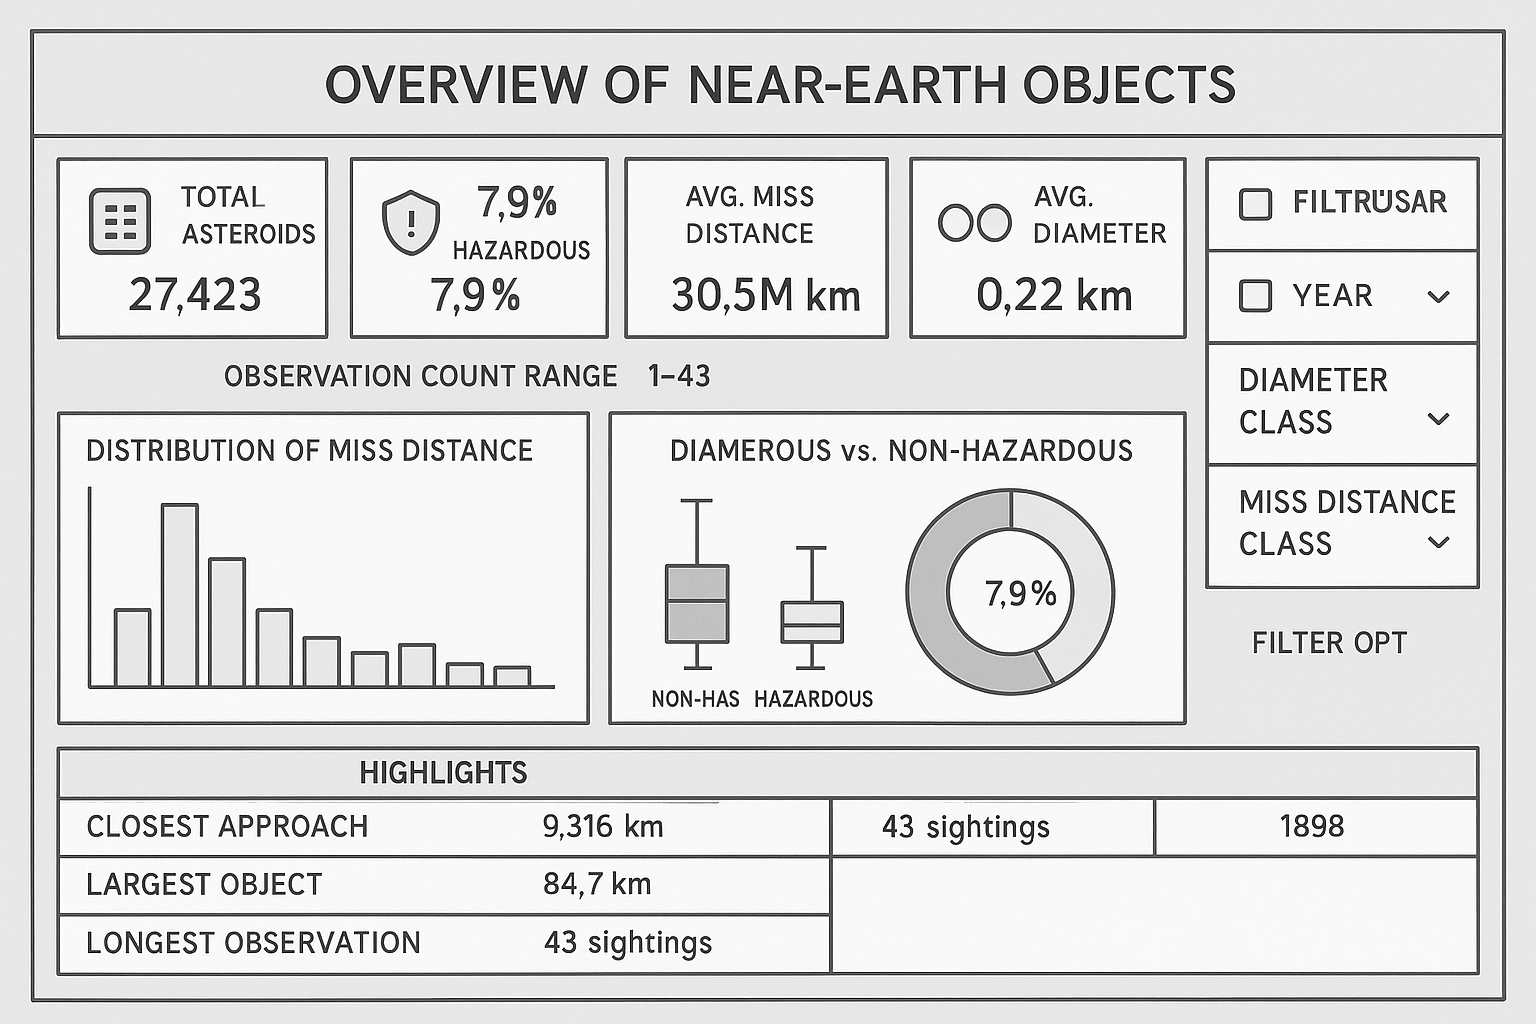

What the dashboard file says about the page in this screenshot:
{"tool":"powerbi","page":{"name":"Overview","canvas":[1280,720],"ordinal":0},"visuals":[{"type":"image","box":[0,0,192,128],"z":0},{"type":"card","fields":{"Values":["features.Total Observations"]},"box":[160,0,256,128],"z":1},{"type":"card","fields":{"Values":["features.Total Asteroids"]},"box":[400,0,208,128],"z":2},{"type":"card","fields":{"Values":["features_model.Potentially Hazardous Asteroids"]},"box":[640,0,192,128],"z":3},{"type":"card","fields":{"Values":["features.Hazardous Asteroids"]},"box":[896,0,176,128],"z":4}]}

Visuals, with their boxes on the page's 1280x720 design canvas (x1, y1, x2, y2). These are canvas units, not pixel positions in the 1536x1024 screenshot, which may show the page scaled, cropped or inside an application window:
image: (0,0,192,128)
card - features.Total Observations: (160,0,416,128)
card - features.Total Asteroids: (400,0,608,128)
card - features_model.Potentially Hazardous Asteroids: (640,0,832,128)
card - features.Hazardous Asteroids: (896,0,1072,128)
